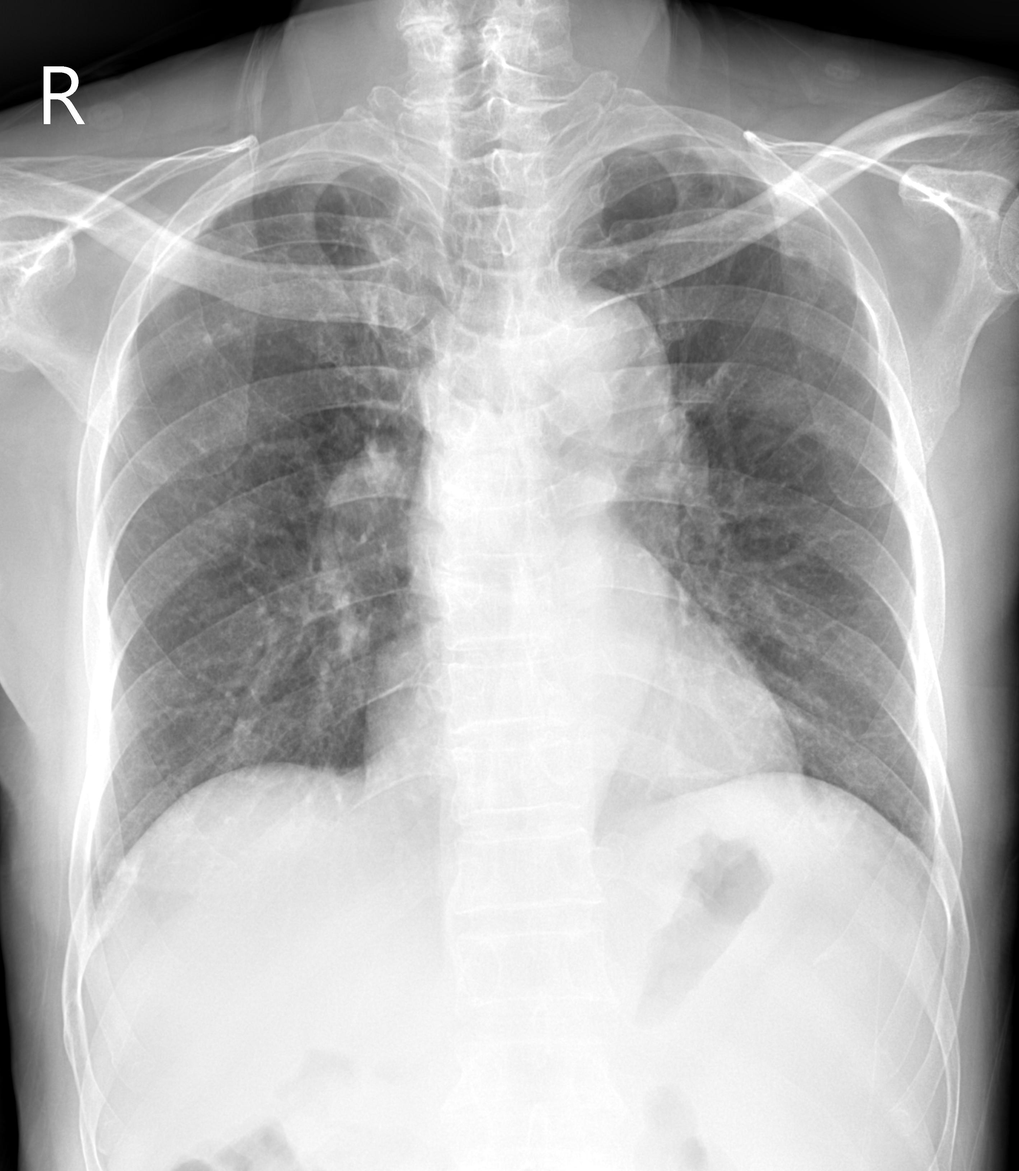Aortic enlargement: (499, 290, 682, 512)
Pleural thickening: (680, 129, 804, 213)
Pulmonary fibrosis: (319, 177, 382, 266), (235, 218, 302, 280)
